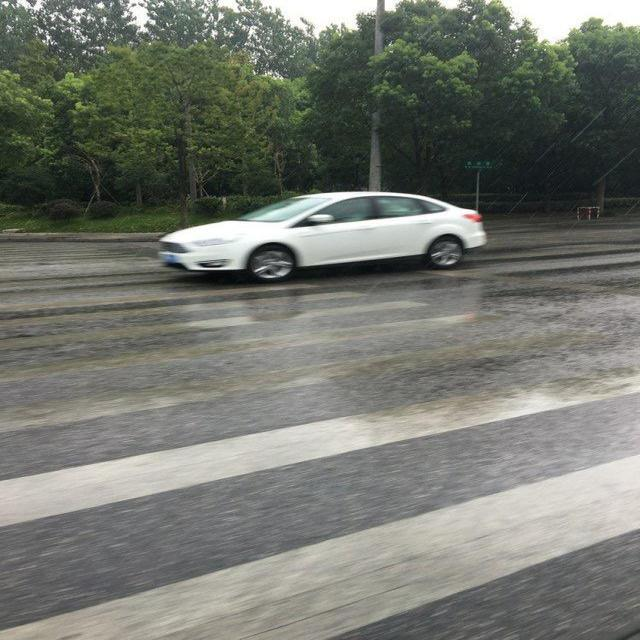car: (151, 188, 490, 280)
